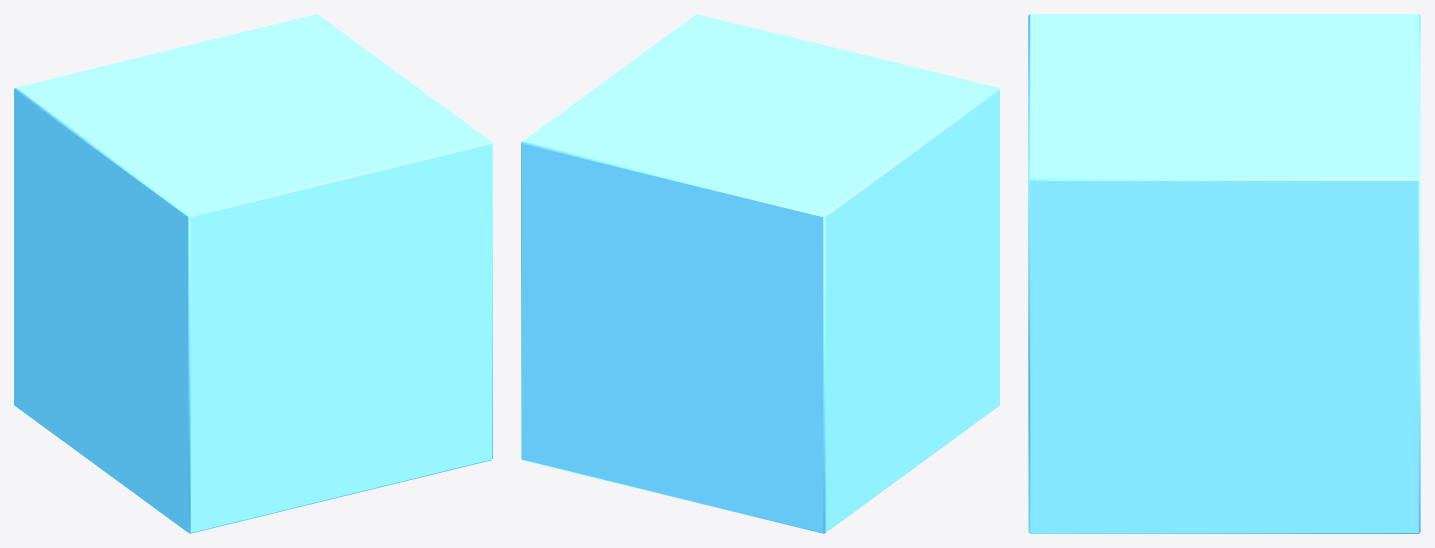
The picture shows the model from 3 angles, left to right: view 1: azimuth 30°, elevation 25°; view 2: azimuth 150°, elevation 25°; view 3: azimuth 270°, elevation 25°; orthographic projection. The views are drawn at different scales.
Parts seen in each view (by area): view 1: Geo_Shell_Shell_0; view 2: Geo_Shell_Shell_0; view 3: Geo_Shell_Shell_0.
Part boxes in pixels (left/top/right/bottom): Geo_Shell_Shell_0: left=14, top=14, right=492, bottom=533; Geo_Shell_Shell_0: left=521, top=14, right=999, bottom=533; Geo_Shell_Shell_0: left=1028, top=14, right=1420, bottom=533.
Bounding box in the file's own units: 0.2789 × 0.2789 × 0.2789.
